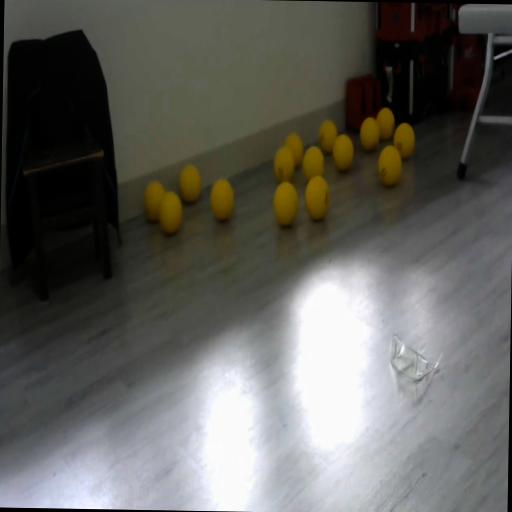FUEL: (272, 180, 299, 228), (209, 176, 235, 222), (304, 175, 330, 221), (376, 144, 402, 187), (142, 179, 166, 223), (178, 164, 202, 204), (392, 121, 416, 159), (332, 134, 354, 172), (302, 146, 324, 182), (359, 116, 380, 152), (284, 132, 304, 168), (318, 119, 338, 154), (376, 106, 396, 140)
